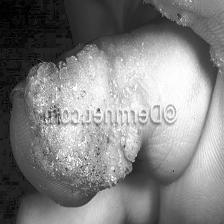Toxin: (25, 60, 59, 106), (165, 0, 182, 5)
